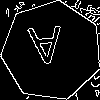A: (26, 26, 65, 74)
